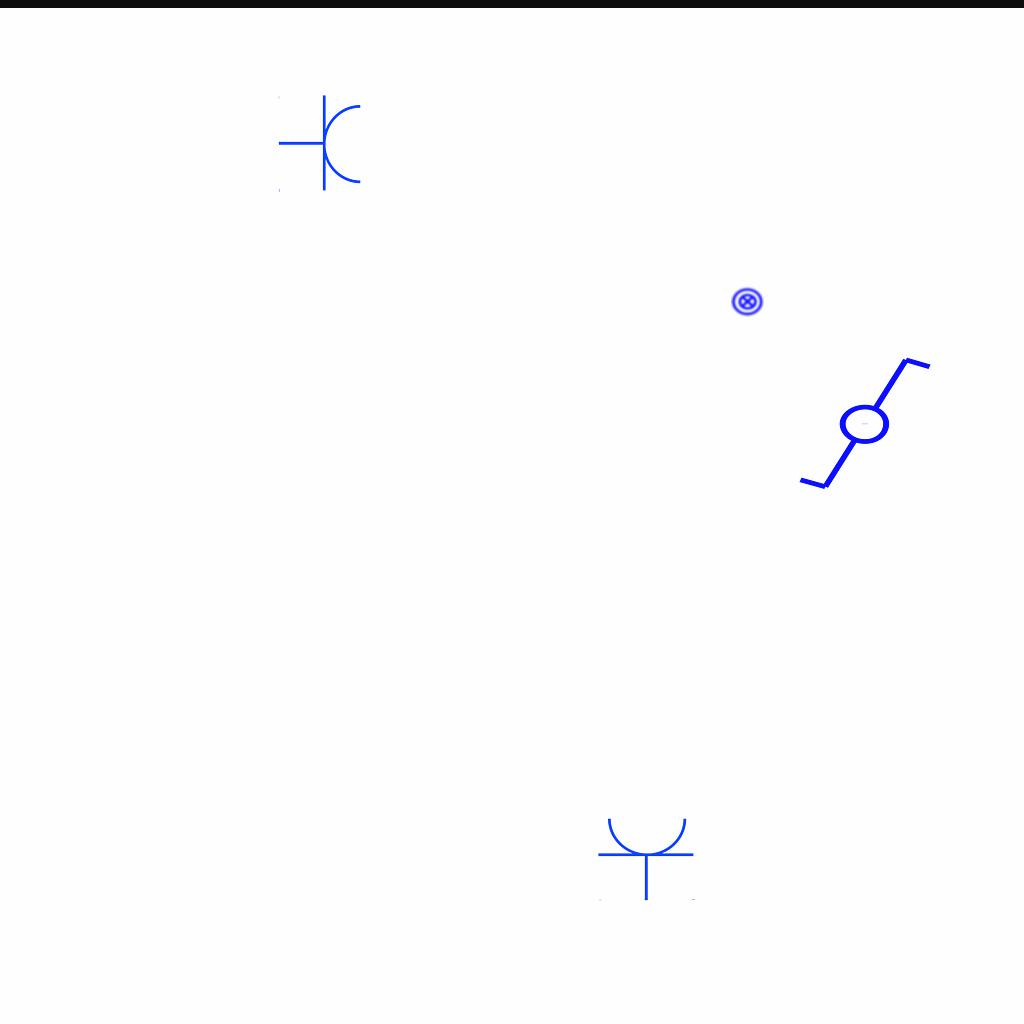Schukosteckdose_einfach: (597, 814, 697, 901), (278, 94, 365, 194)
Taster_beleuchtet: (731, 285, 764, 318)
Wechselschalter: (778, 350, 935, 494)
